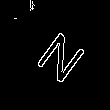N_SW: (24, 25, 85, 90)
